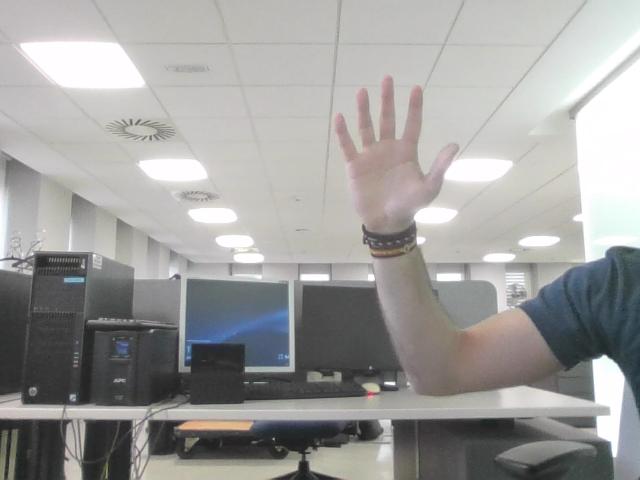Mano Abierta: (342, 87, 446, 202)
